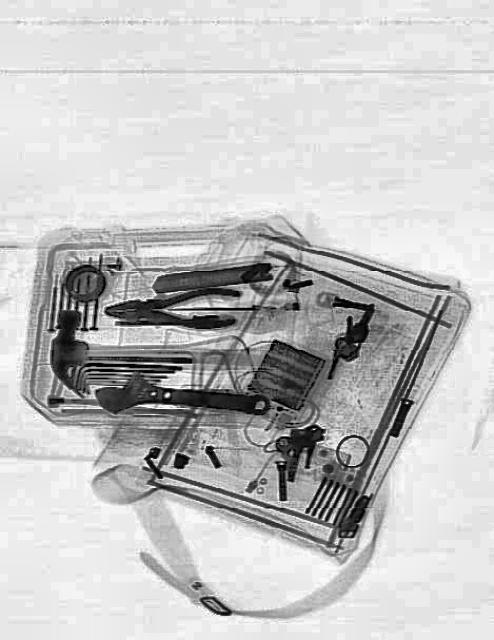Pliers: (104, 284, 240, 332)
Wrench: (96, 369, 268, 417)
